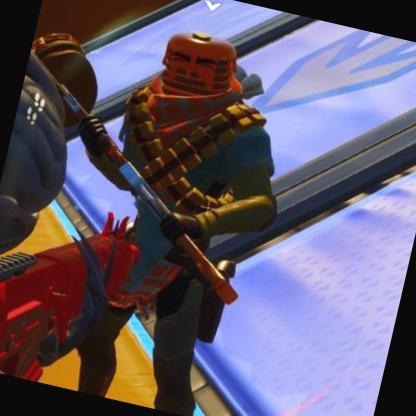person: (76, 49, 270, 374)
